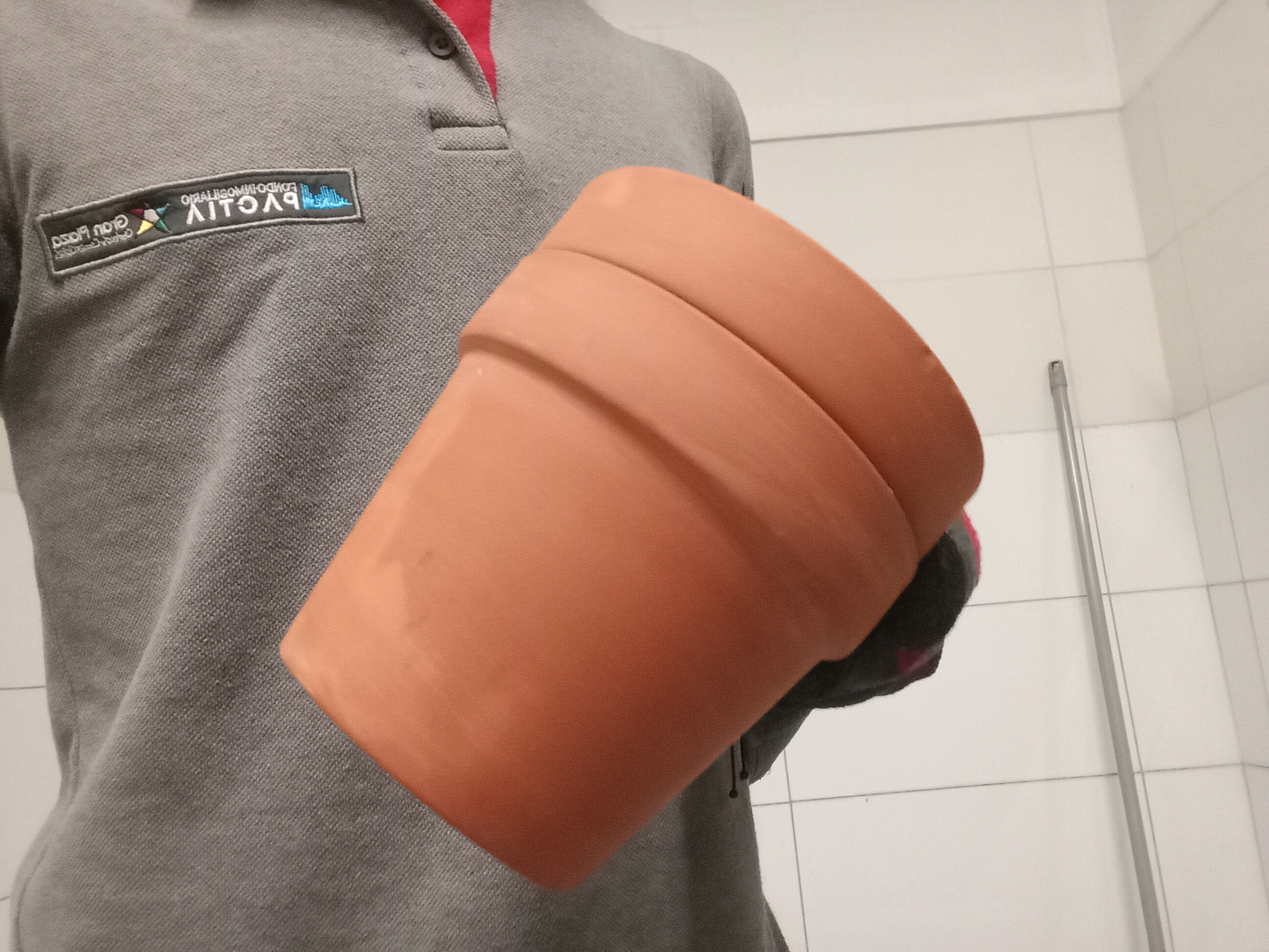Ordinario: (279, 167, 986, 896)
